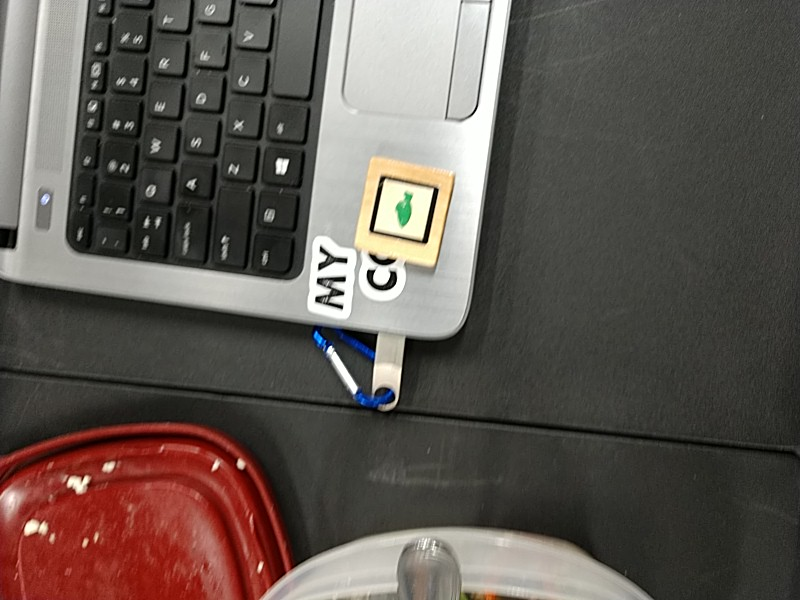Fish Tile: (369, 175, 440, 246)
